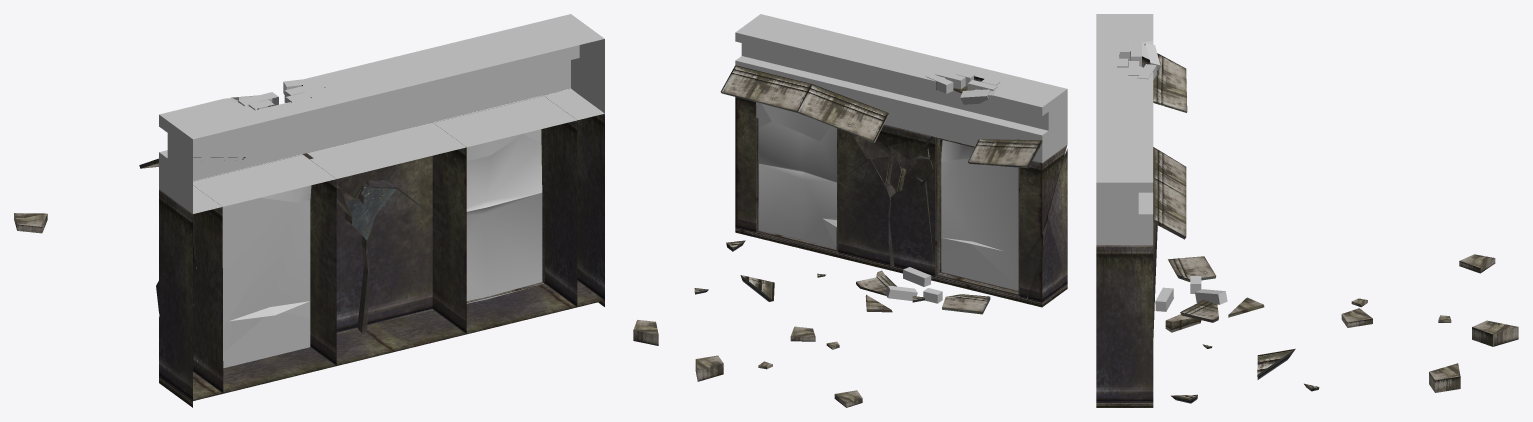
The model's file is Store_front_10_A.fbx.
3 renders of one model, left to right at view 1: azimuth 30°, elevation 25°; view 2: azimuth 150°, elevation 25°; view 3: azimuth 270°, elevation 25°, orthographic. The views are drawn at different scales.
Visible parts, largest first — view 1: Store_front_10_A; view 2: Store_front_10_A; view 3: Store_front_10_A.
Part boxes in pixels (x1=…): Store_front_10_A: x1=14, y1=14, x2=604, y2=407; Store_front_10_A: x1=633, y1=14, x2=1067, y2=407; Store_front_10_A: x1=1096, y1=14, x2=1518, y2=407.
Size of the model in its own units: 704 by 453 by 741.
